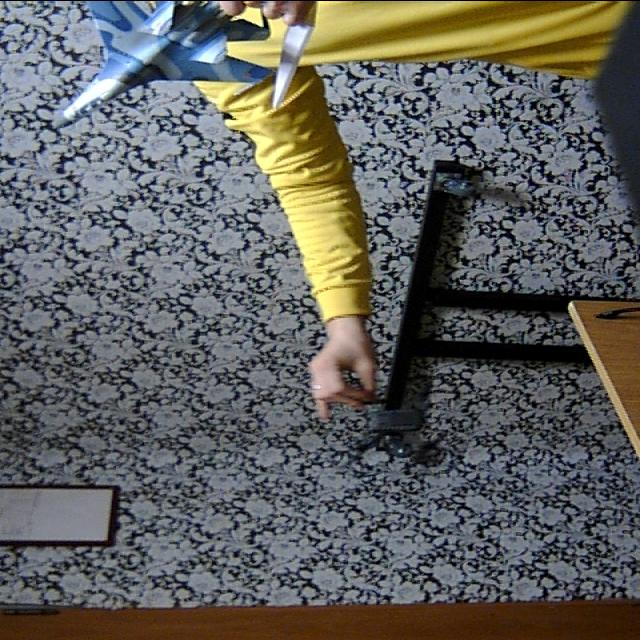drone: (302, 363, 466, 478)
